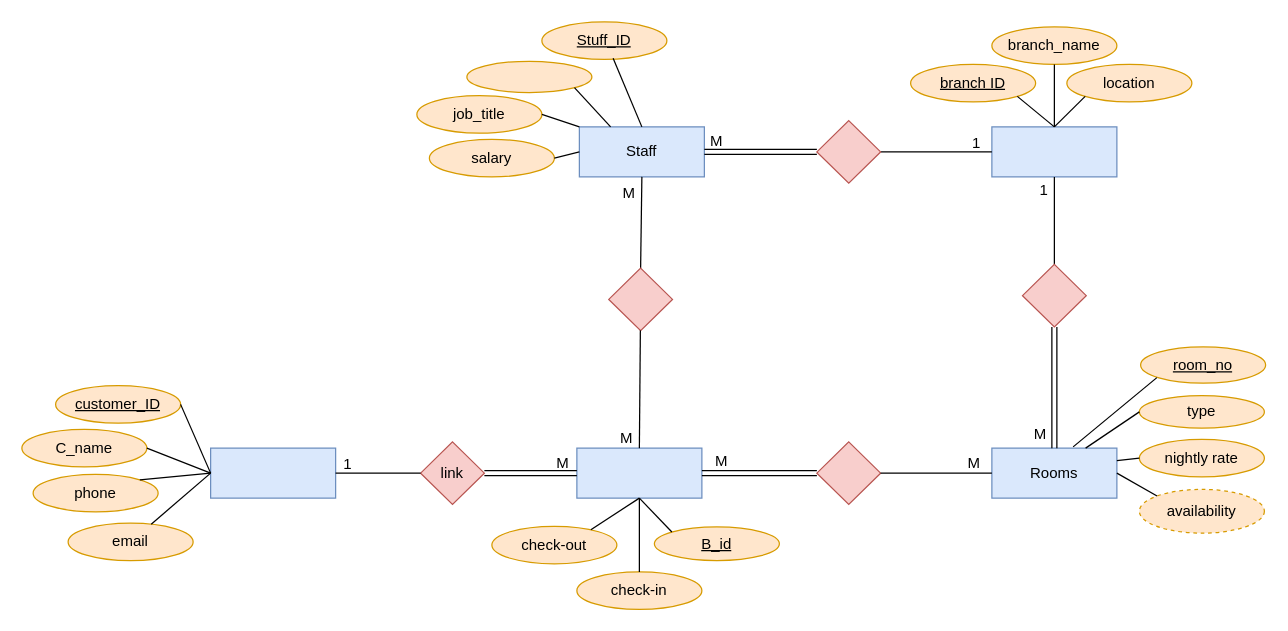
Some shapes in this 1288 by 631 pixel diagram are drawn without their labels. Here are the shapes that lost their labels. From the top down, the centre of each, then its label:
the point at 529,76: S_name
the point at 848,151: assign
the point at 1054,151: Branches
the point at 640,299: can
the point at 1053,295: have
the point at 272,472: customer
the point at 639,472: Booking
the point at 848,472: include
